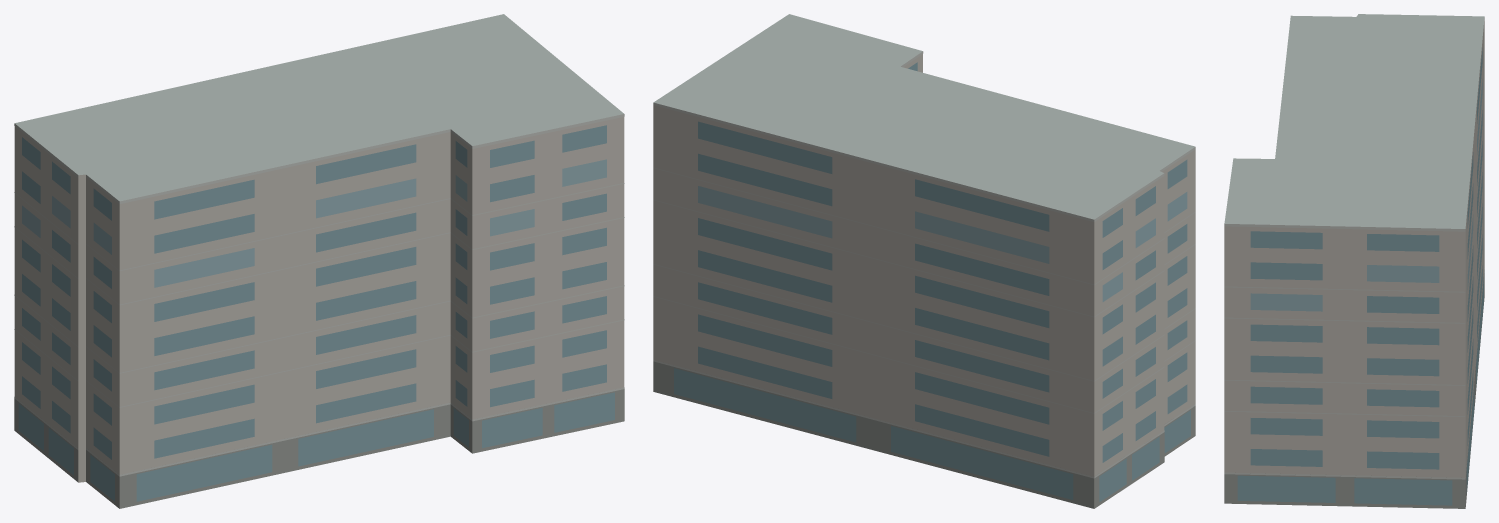
File: survey-upis-32766617.glb
3 views of the same model, side by side, from view 1: azimuth 30°, elevation 25°; view 2: azimuth 150°, elevation 25°; view 3: azimuth 270°, elevation 25° (orthographic). The views are drawn at different scales.
Parts seen in each view (by area): view 1: survey-upis-32766617.tmp; view 2: survey-upis-32766617.tmp; view 3: survey-upis-32766617.tmp.
Part boxes in pixels (x1,y1,x2,y2): survey-upis-32766617.tmp: (14, 14, 624, 508); survey-upis-32766617.tmp: (653, 14, 1195, 508); survey-upis-32766617.tmp: (1224, 14, 1484, 508).
Bounding box in the file's own units: 44.54 × 27 × 22.78.
